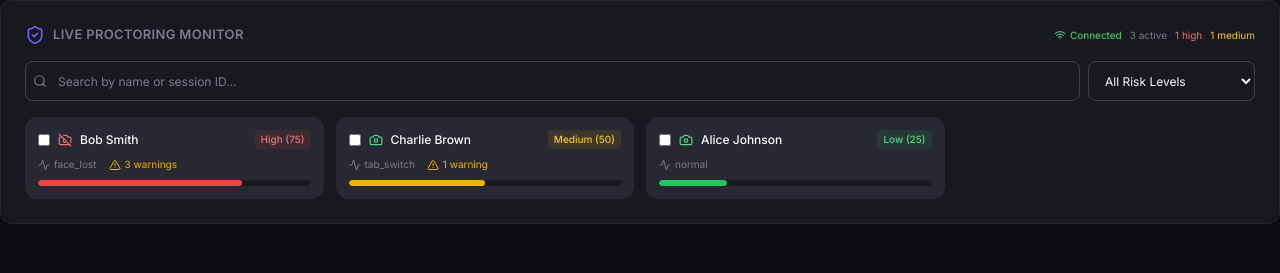
Test: MonitoringGrid › shows empty state when no sessions match filter
In the field with placeholder "Search by name or session ID...": (552, 81) 25,61 -> 1080,101, type "Nonexistent"
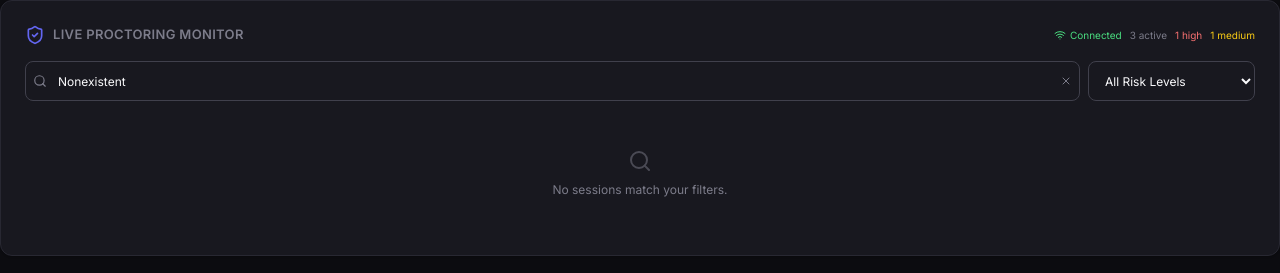
Expected: the text "No sessions match your filters." is shown, 552,181 -> 728,199
